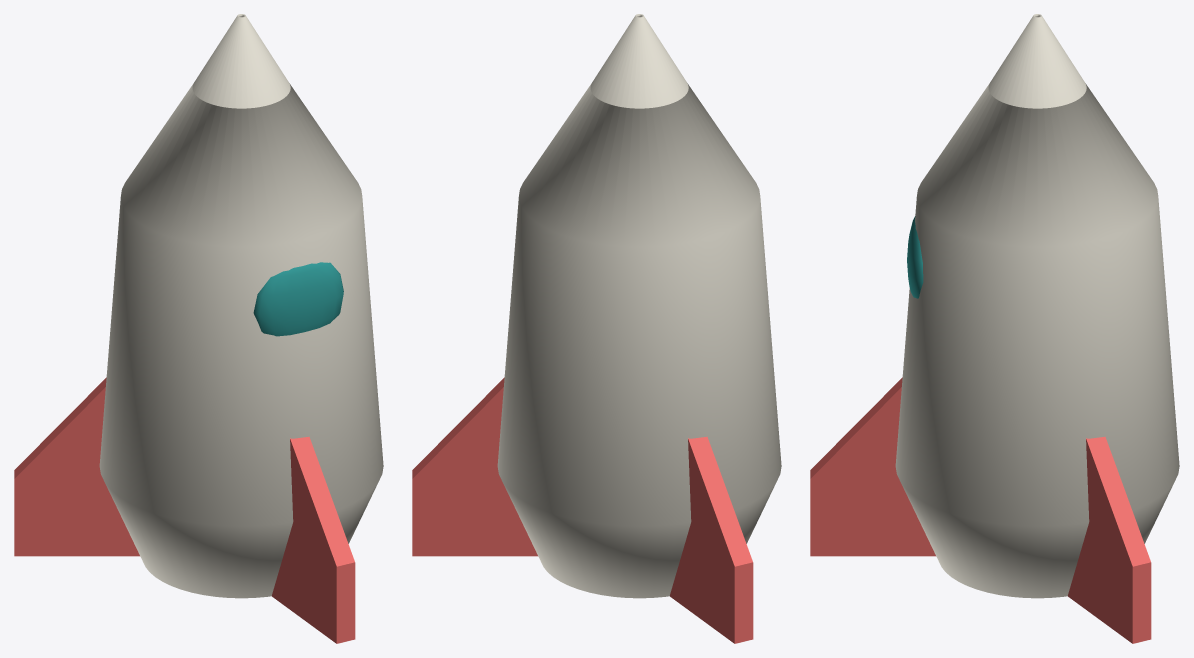
Rendered from mini_rocket.glb.
3 views of the same model, side by side, from view 1: azimuth 30°, elevation 25°; view 2: azimuth 150°, elevation 25°; view 3: azimuth 270°, elevation 25° (orthographic).
Visible parts, largest first — view 1: Hull, Red_fin.002, Red_fin, Porthole; view 2: Hull, Red_fin.001, Red_fin.002; view 3: Hull, Red_fin, Red_fin.001, Porthole.
Boxes of the visible parts, box(x1,y1,x2,y2) form: Hull: box(99, 14, 383, 598); Red_fin.002: box(14, 377, 139, 556); Red_fin: box(272, 436, 355, 643); Porthole: box(253, 262, 343, 336); Hull: box(497, 14, 781, 598); Red_fin.001: box(412, 377, 537, 556); Red_fin.002: box(670, 436, 753, 643); Hull: box(895, 14, 1179, 598); Red_fin: box(810, 377, 935, 556); Red_fin.001: box(1068, 436, 1151, 643); Porthole: box(907, 216, 923, 298).
Bounding box in the file's own units: 0.2846 × 0.42 × 0.26.
